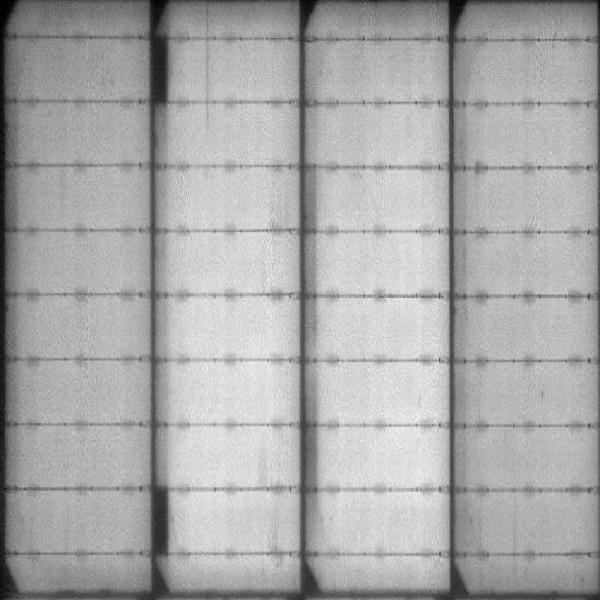black_border: (145, 32, 171, 114), (148, 484, 171, 560)
scratch: (203, 1, 212, 134)
